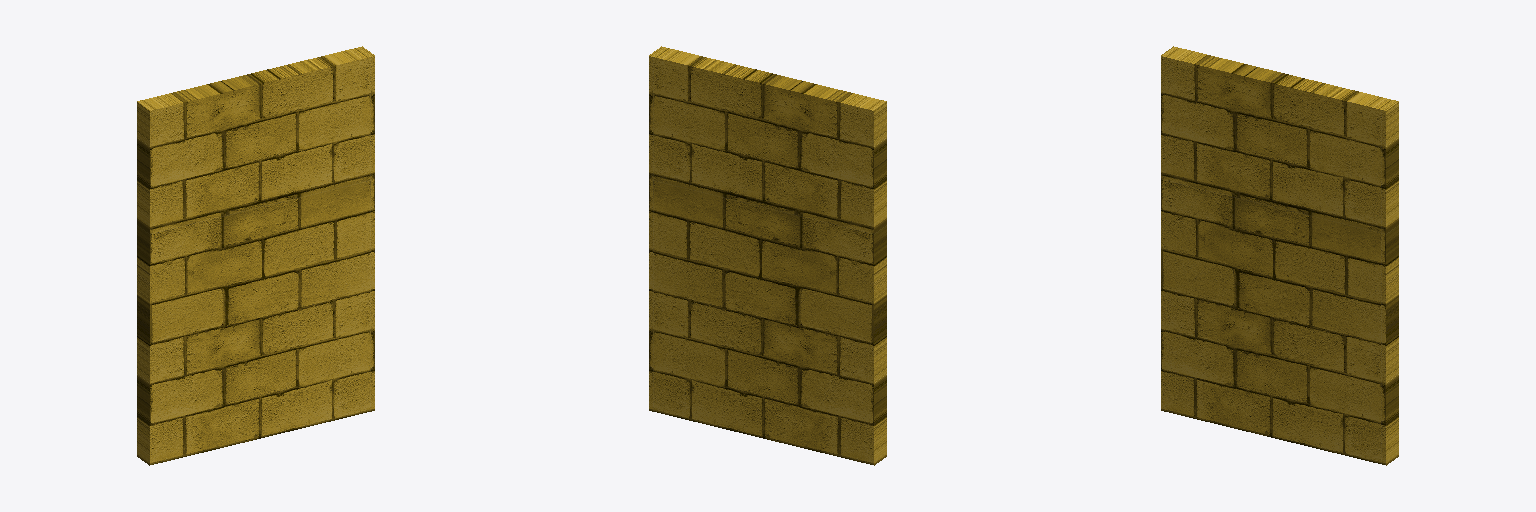
The picture shows the model from 3 angles: view 1: azimuth 30°, elevation 25°; view 2: azimuth 150°, elevation 25°; view 3: azimuth 330°, elevation 25°; orthographic projection.
Visible parts, largest first — view 1: brick_wall_x1_SF2; view 2: brick_wall_x1_SF2; view 3: brick_wall_x1_SF2.
Boxes of the visible parts, box(x1,y1,x2,y2) form: brick_wall_x1_SF2: box(137, 46, 374, 465); brick_wall_x1_SF2: box(649, 46, 886, 465); brick_wall_x1_SF2: box(1161, 46, 1398, 465).
Size of the model in its own units: 200 by 300 by 20.
Materials: 1 (1 with a texture image).